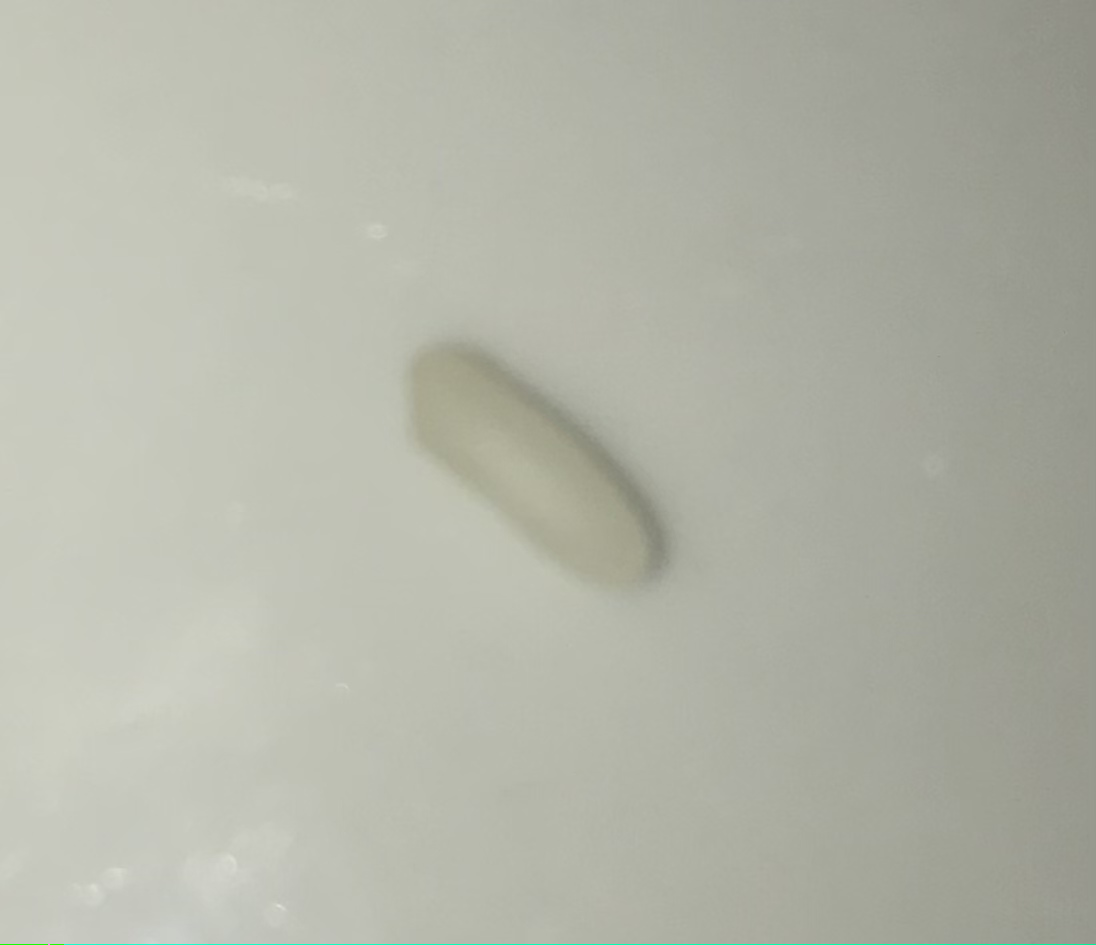Gao Thom Go Cong: (374, 301, 675, 611)
